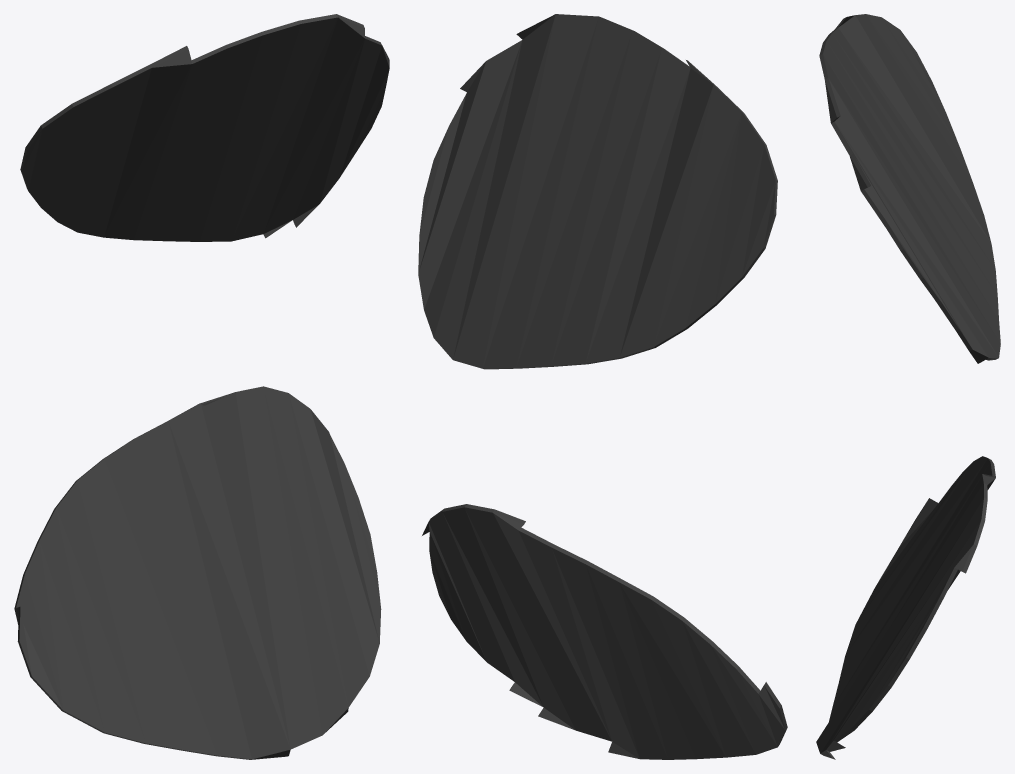
Rendered from Pelvis_obturator_foramen.glb.
3 views of the same model, side by side, from view 1: azimuth 30°, elevation 25°; view 2: azimuth 150°, elevation 25°; view 3: azimuth 270°, elevation 25° (orthographic). The views are drawn at different scales.
Parts seen in each view (by area): view 1: Pelvis_obturator_foramen; view 2: Pelvis_obturator_foramen; view 3: Pelvis_obturator_foramen.
Part boxes in pixels (x1,y1,x2,y2): Pelvis_obturator_foramen: (14, 14, 389, 759); Pelvis_obturator_foramen: (418, 14, 787, 759); Pelvis_obturator_foramen: (816, 14, 1000, 759).
Bounding box in the file's own units: 1.43 × 2.83 × 0.6719.
Materials: 1 (1 with a texture image).
